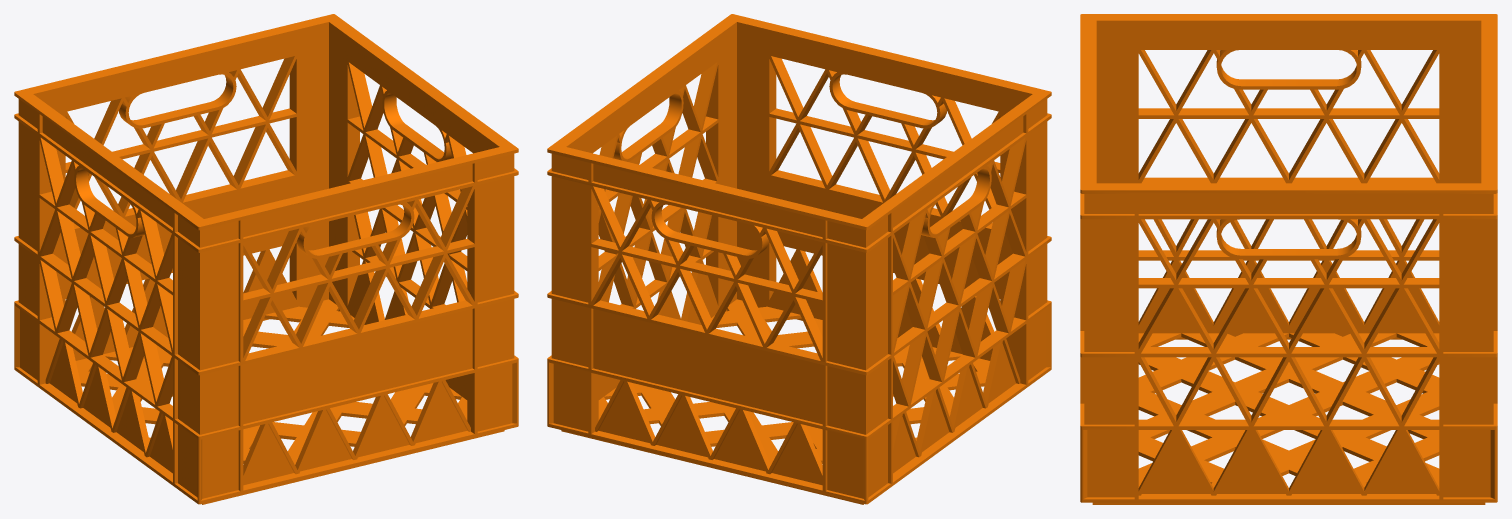
File: crate.obj
3 views of the same model, side by side, from view 1: azimuth 30°, elevation 25°; view 2: azimuth 150°, elevation 25°; view 3: azimuth 270°, elevation 25° (orthographic). The views are drawn at different scales.
Parts seen in each view (by area): view 1: Mesh3 Component_2_3 Group1 Model, Mesh4 Component_2_4 Group1 Model, Mesh1 Component_2_1 Group1 Model, Mesh2 Component_2_2 Group1 Model; view 2: Mesh2 Component_2_2 Group1 Model, Mesh1 Component_2_1 Group1 Model, Mesh4 Component_2_4 Group1 Model, Mesh3 Component_2_3 Group1 Model; view 3: Mesh1 Component_2_1 Group1 Model, Mesh4 Component_2_4 Group1 Model, Mesh2 Component_2_2 Group1 Model, Mesh3 Component_2_3 Group1 Model.
Boxes of the visible parts, x1,y1,x2,y2 form: Mesh3 Component_2_3 Group1 Model: (106, 156, 358, 504); Mesh4 Component_2_4 Group1 Model: (304, 81, 518, 467); Mesh1 Component_2_1 Group1 Model: (174, 14, 426, 348); Mesh2 Component_2_2 Group1 Model: (14, 53, 180, 436); Mesh2 Component_2_2 Group1 Model: (707, 156, 959, 504); Mesh1 Component_2_1 Group1 Model: (547, 81, 761, 467); Mesh4 Component_2_4 Group1 Model: (639, 14, 891, 348); Mesh3 Component_2_3 Group1 Model: (885, 53, 1051, 436); Mesh1 Component_2_1 Group1 Model: (1289, 102, 1497, 504); Mesh4 Component_2_4 Group1 Model: (1080, 102, 1288, 504); Mesh2 Component_2_2 Group1 Model: (1289, 14, 1497, 416); Mesh3 Component_2_3 Group1 Model: (1080, 14, 1288, 416).
Bounding box in the file's own units: 13 × 11 × 13.
